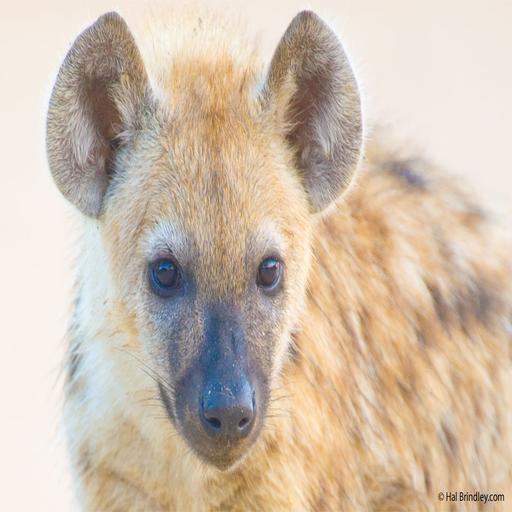Hyena: (43, 0, 512, 509)
